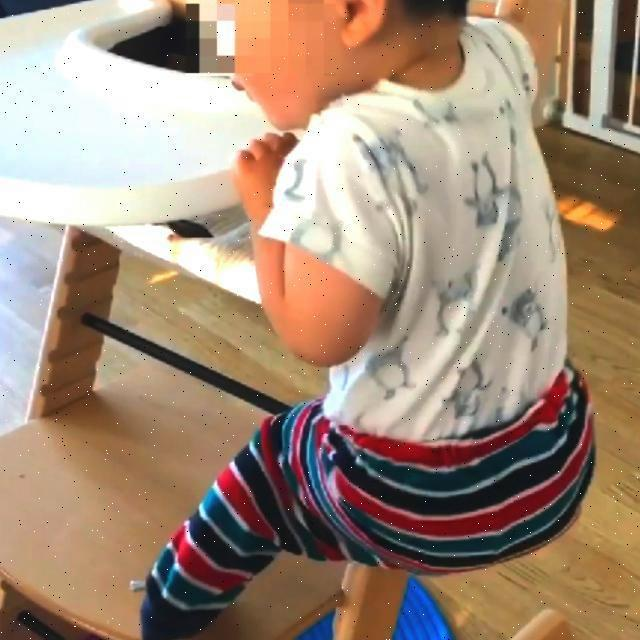child: (156, 0, 589, 640)
